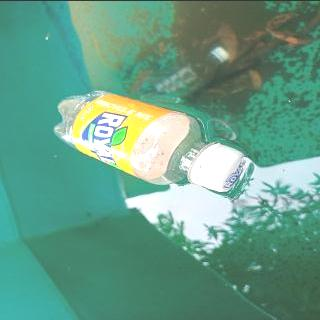bottle: (51, 87, 246, 193)
